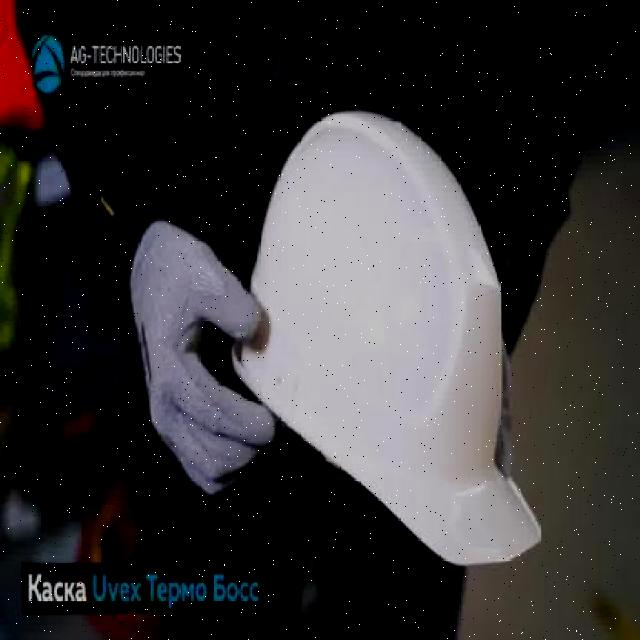Gloves: (130, 220, 278, 500)
Helmet: (229, 104, 543, 570)
